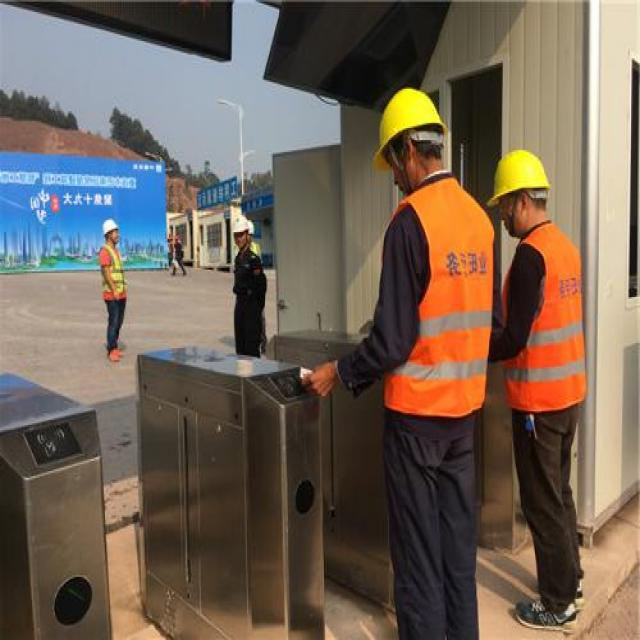Reflective-Jacket: (371, 179, 498, 425), (503, 230, 590, 417), (98, 246, 130, 305)
Safety-Helmet: (370, 82, 452, 164), (485, 144, 553, 208), (100, 215, 122, 237), (232, 215, 252, 236)
